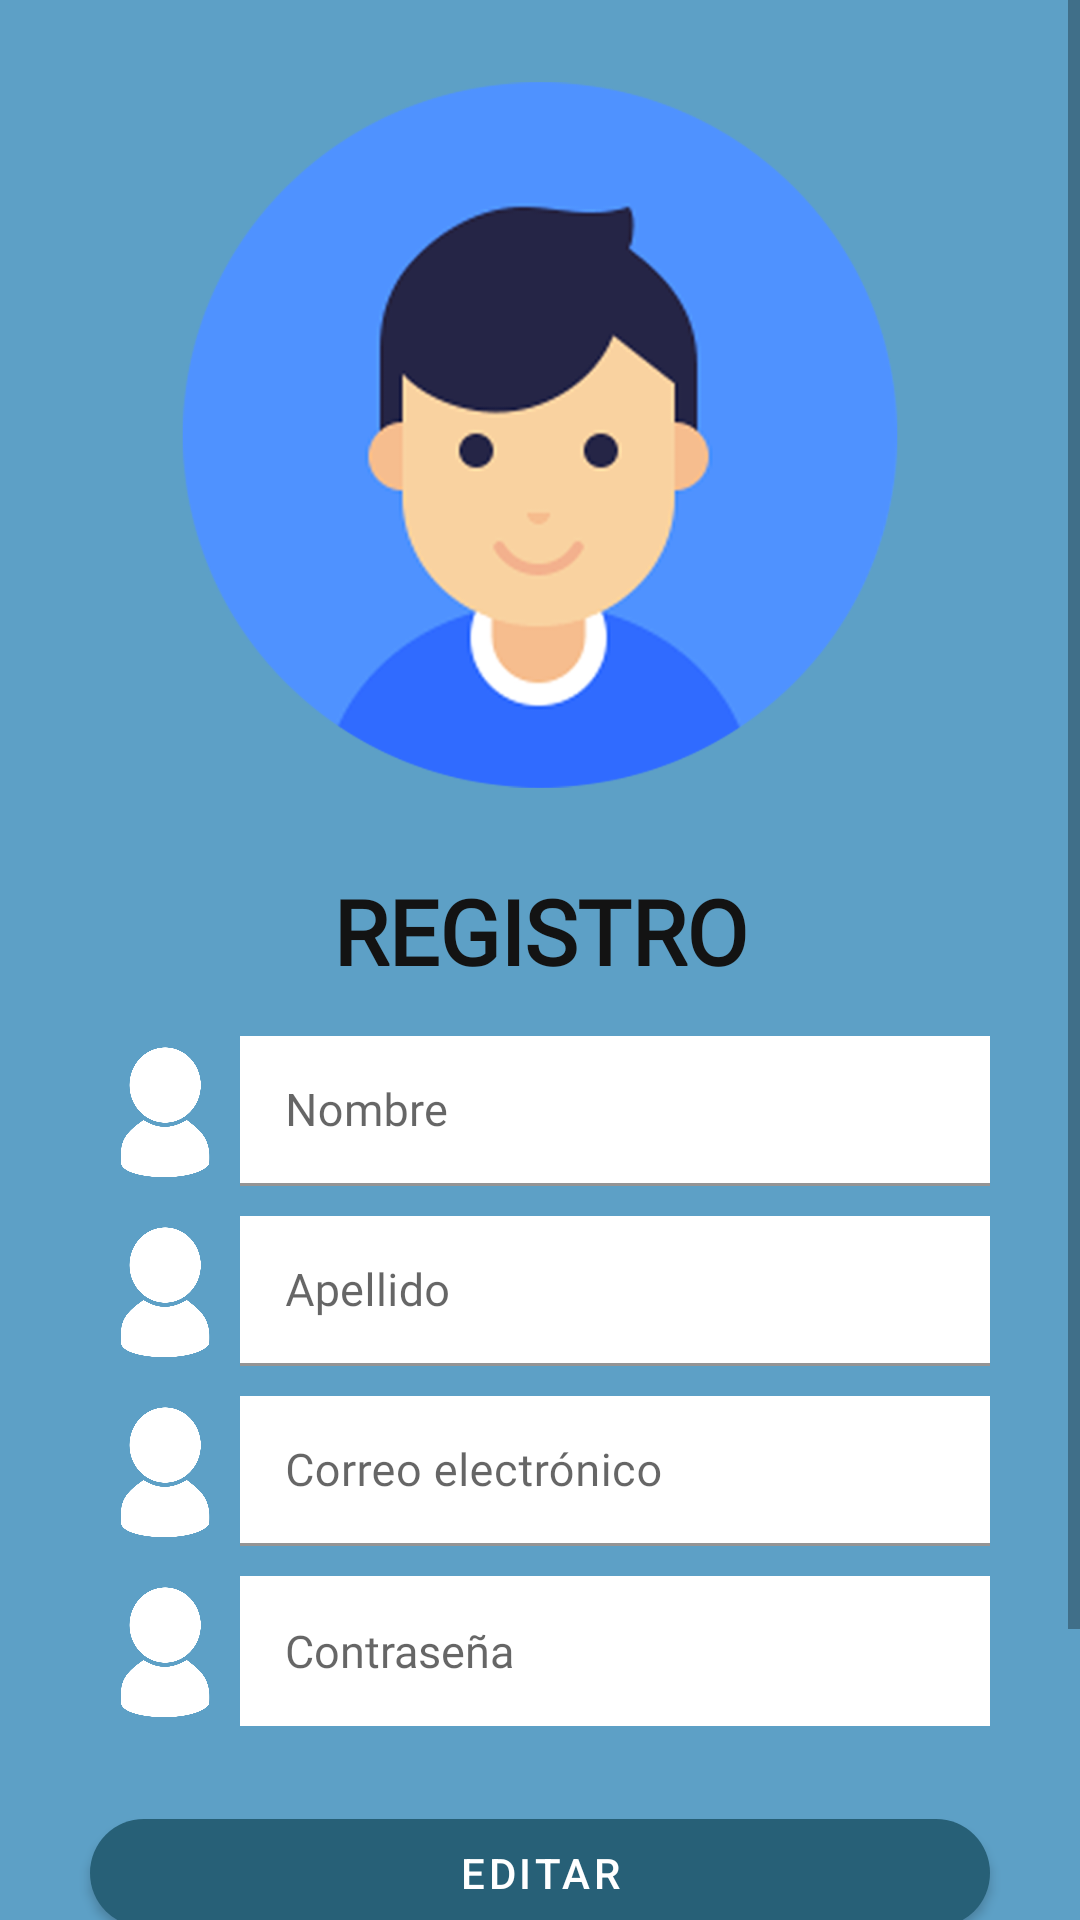

Icons on this 1080px x 1920px Android screen, each with its box as box(x1, y1, x2, y2):
person: box(121, 1047, 210, 1177), box(121, 1227, 210, 1357), box(121, 1407, 210, 1537), box(121, 1587, 210, 1717)
